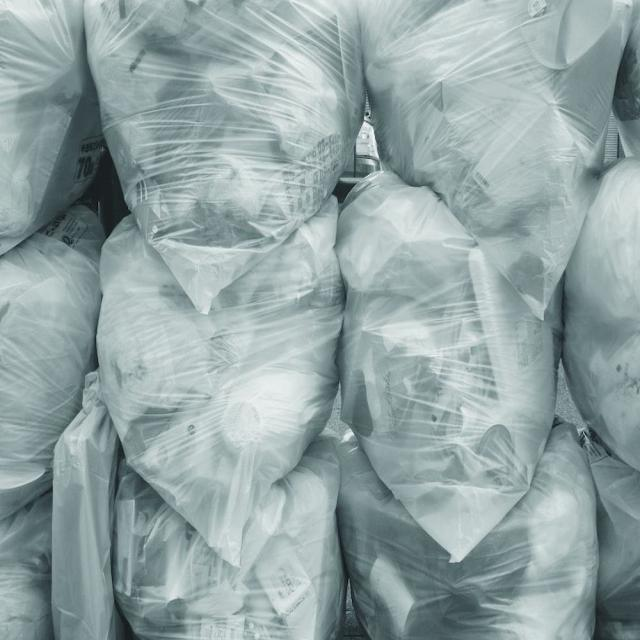plastic: (128, 98, 243, 312), (355, 398, 474, 554)
trash: (8, 1, 636, 636)
